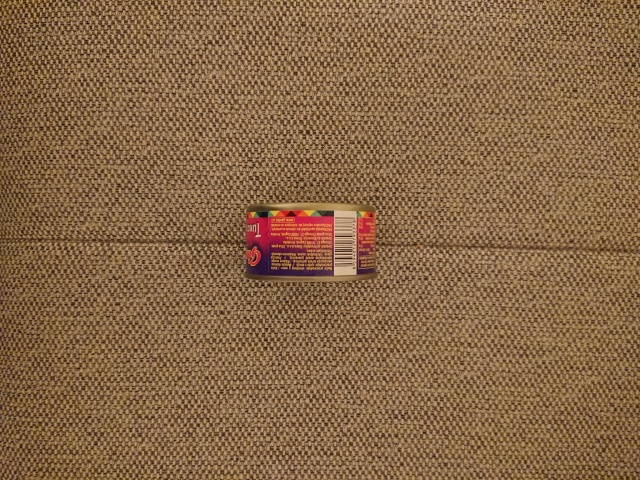Giana Tuna Salad Mexico 185g: (242, 198, 381, 286)
